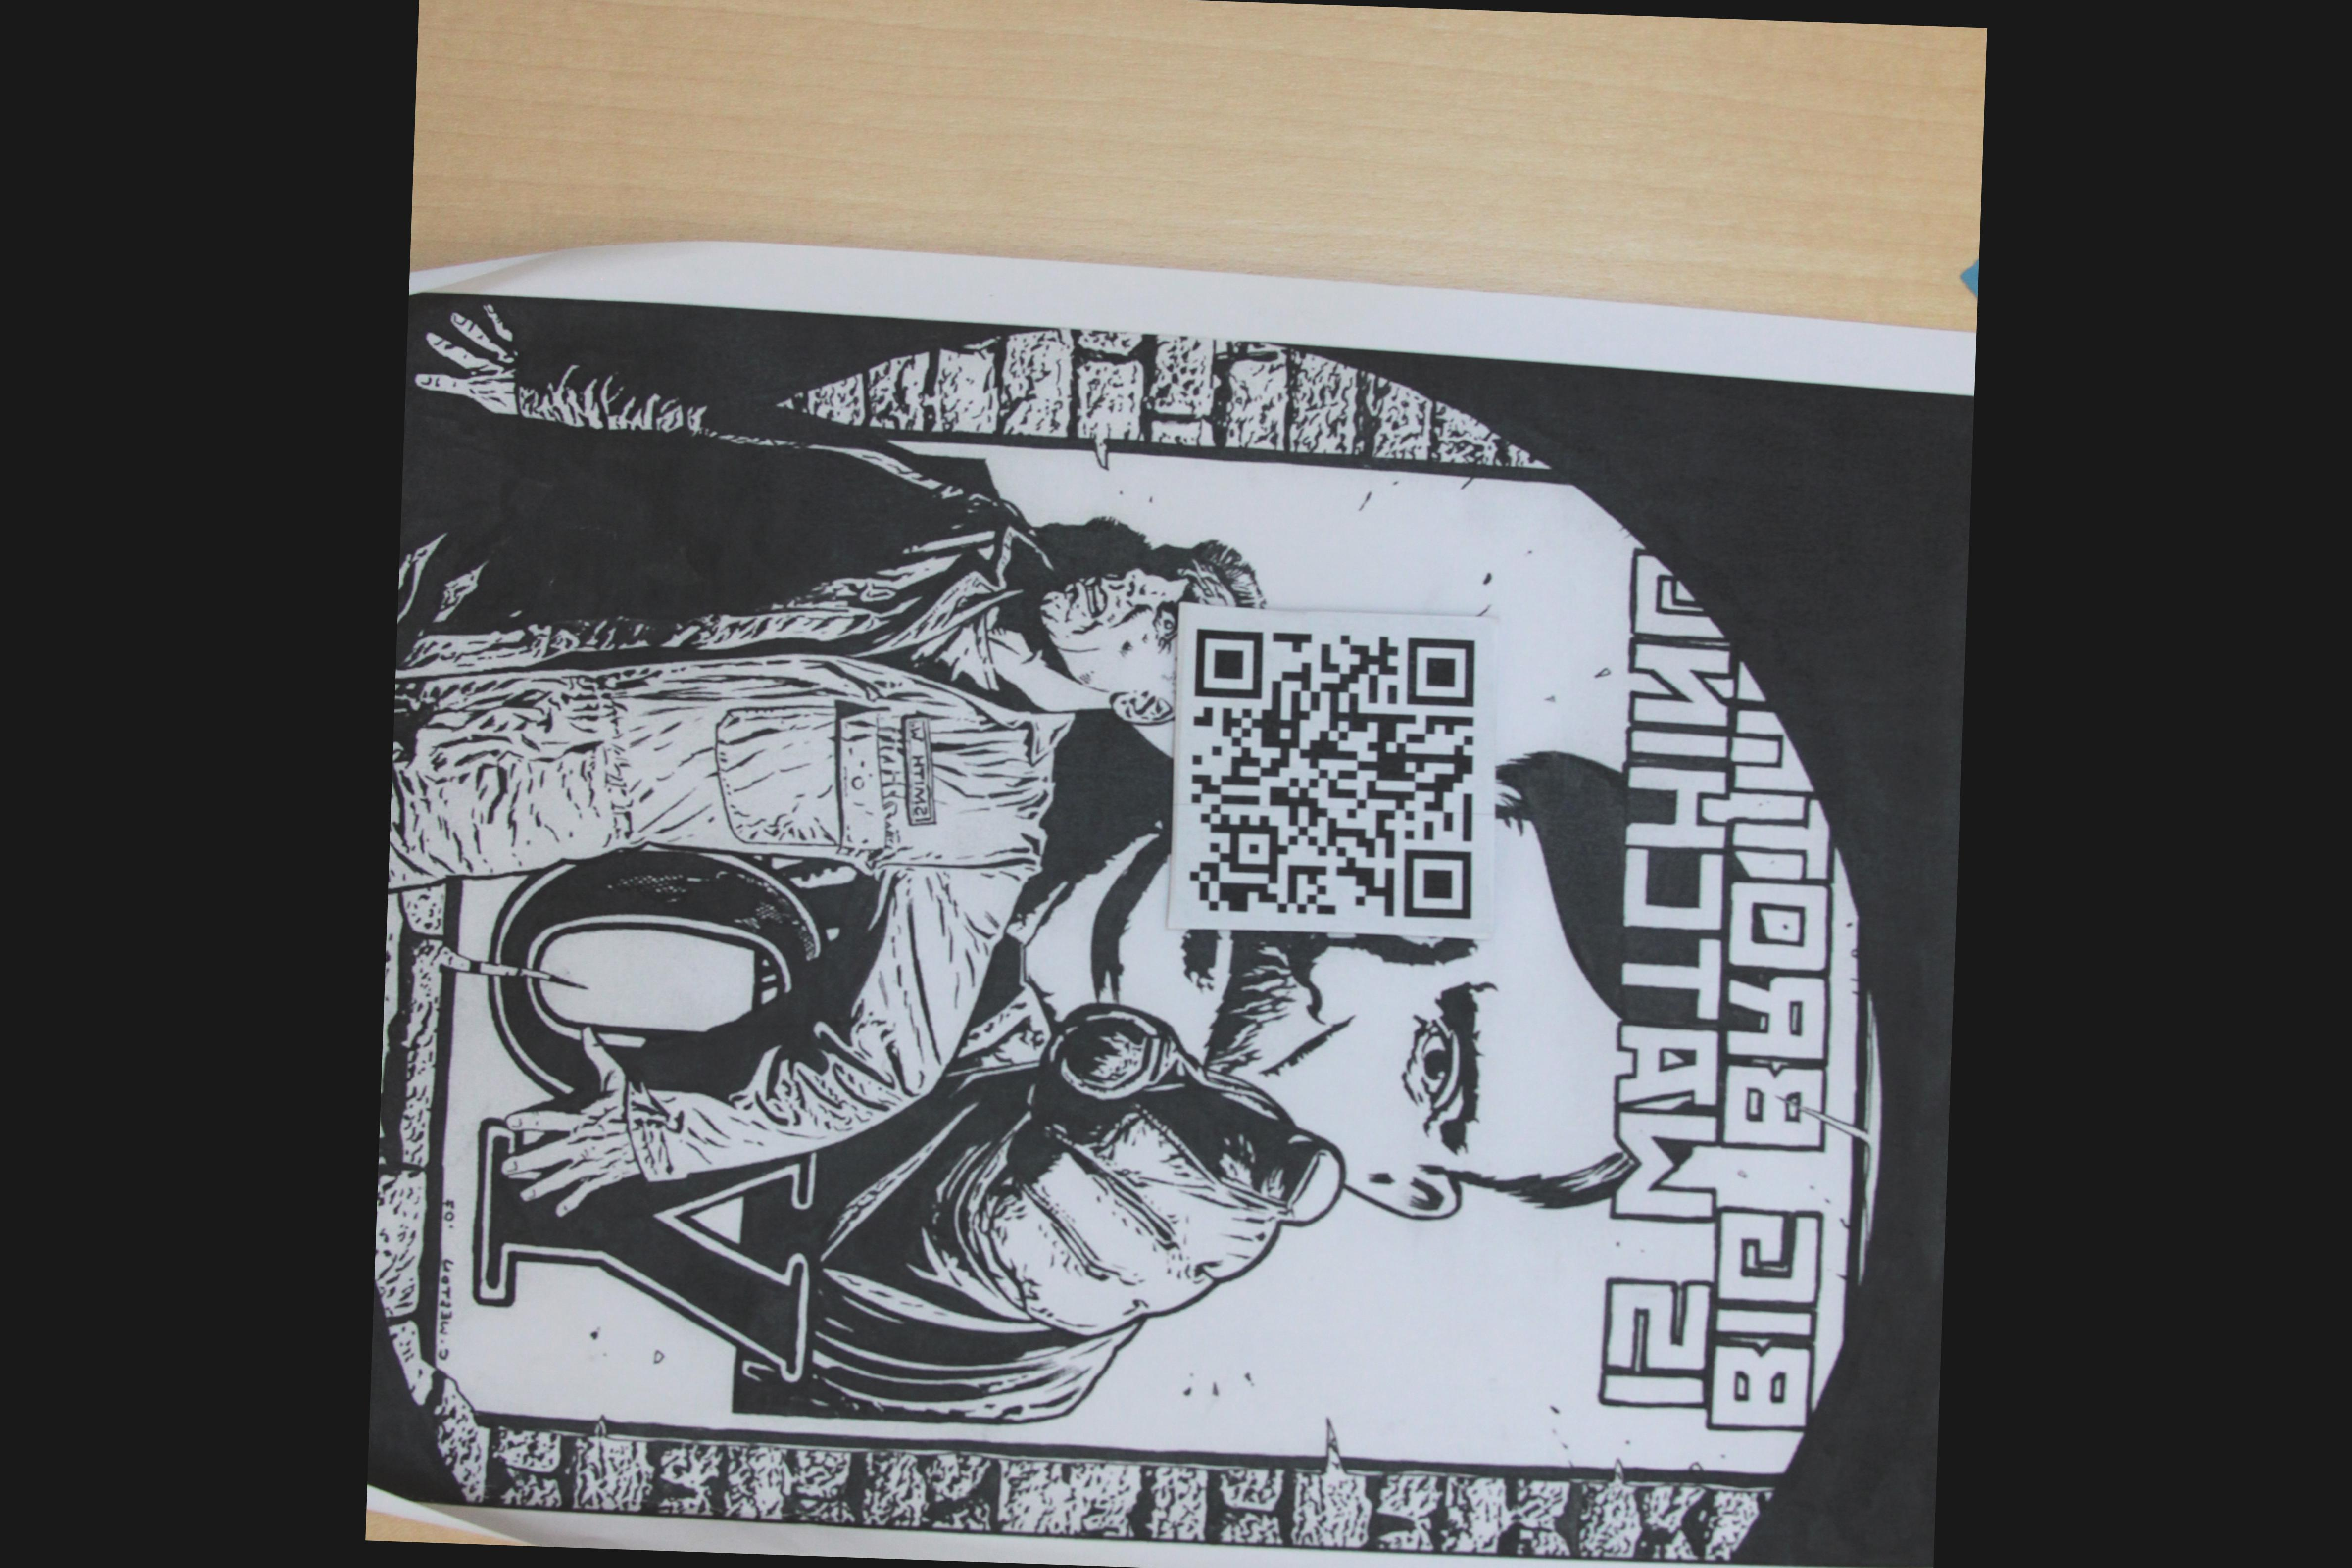QR: (1181, 609, 1475, 929)
